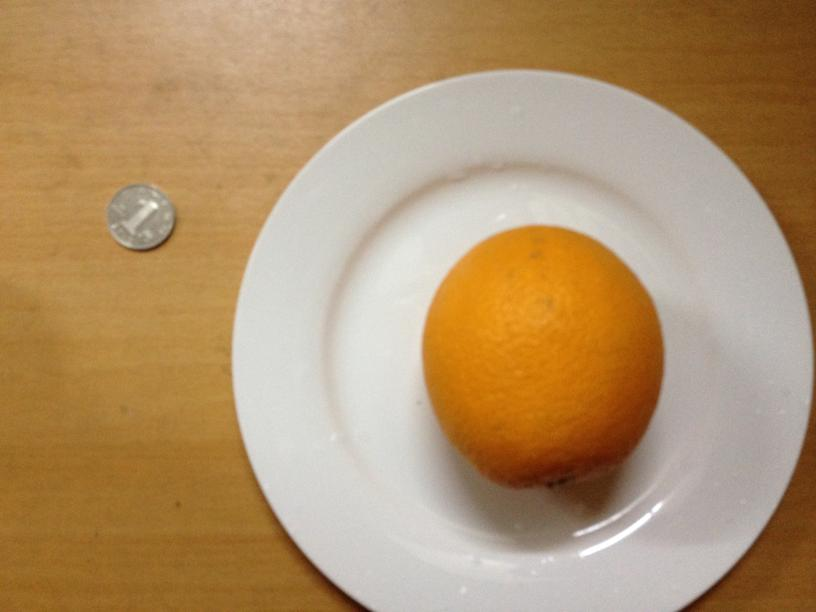coin: (105, 184, 174, 249)
orange: (421, 221, 663, 490)
